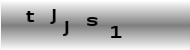1: (109, 25, 122, 38)
J: (48, 7, 58, 25), (60, 20, 70, 36)
s: (85, 16, 98, 26)
t: (24, 9, 35, 23)
